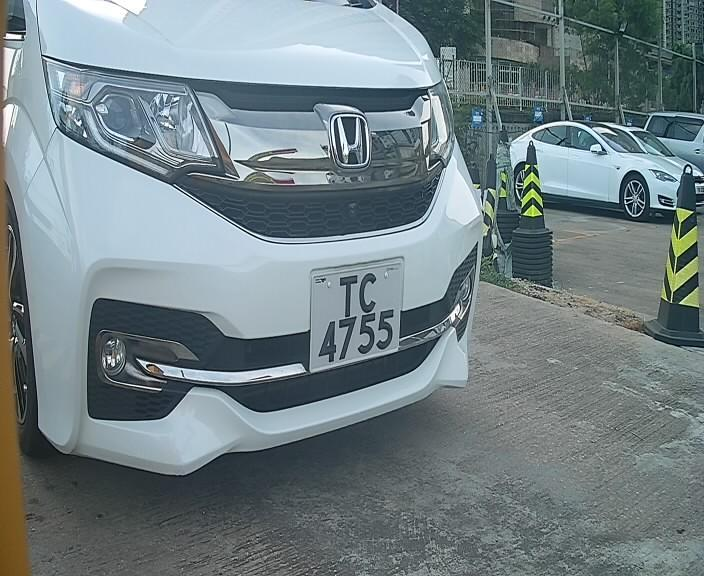privatecar: (4, 21, 516, 487)
